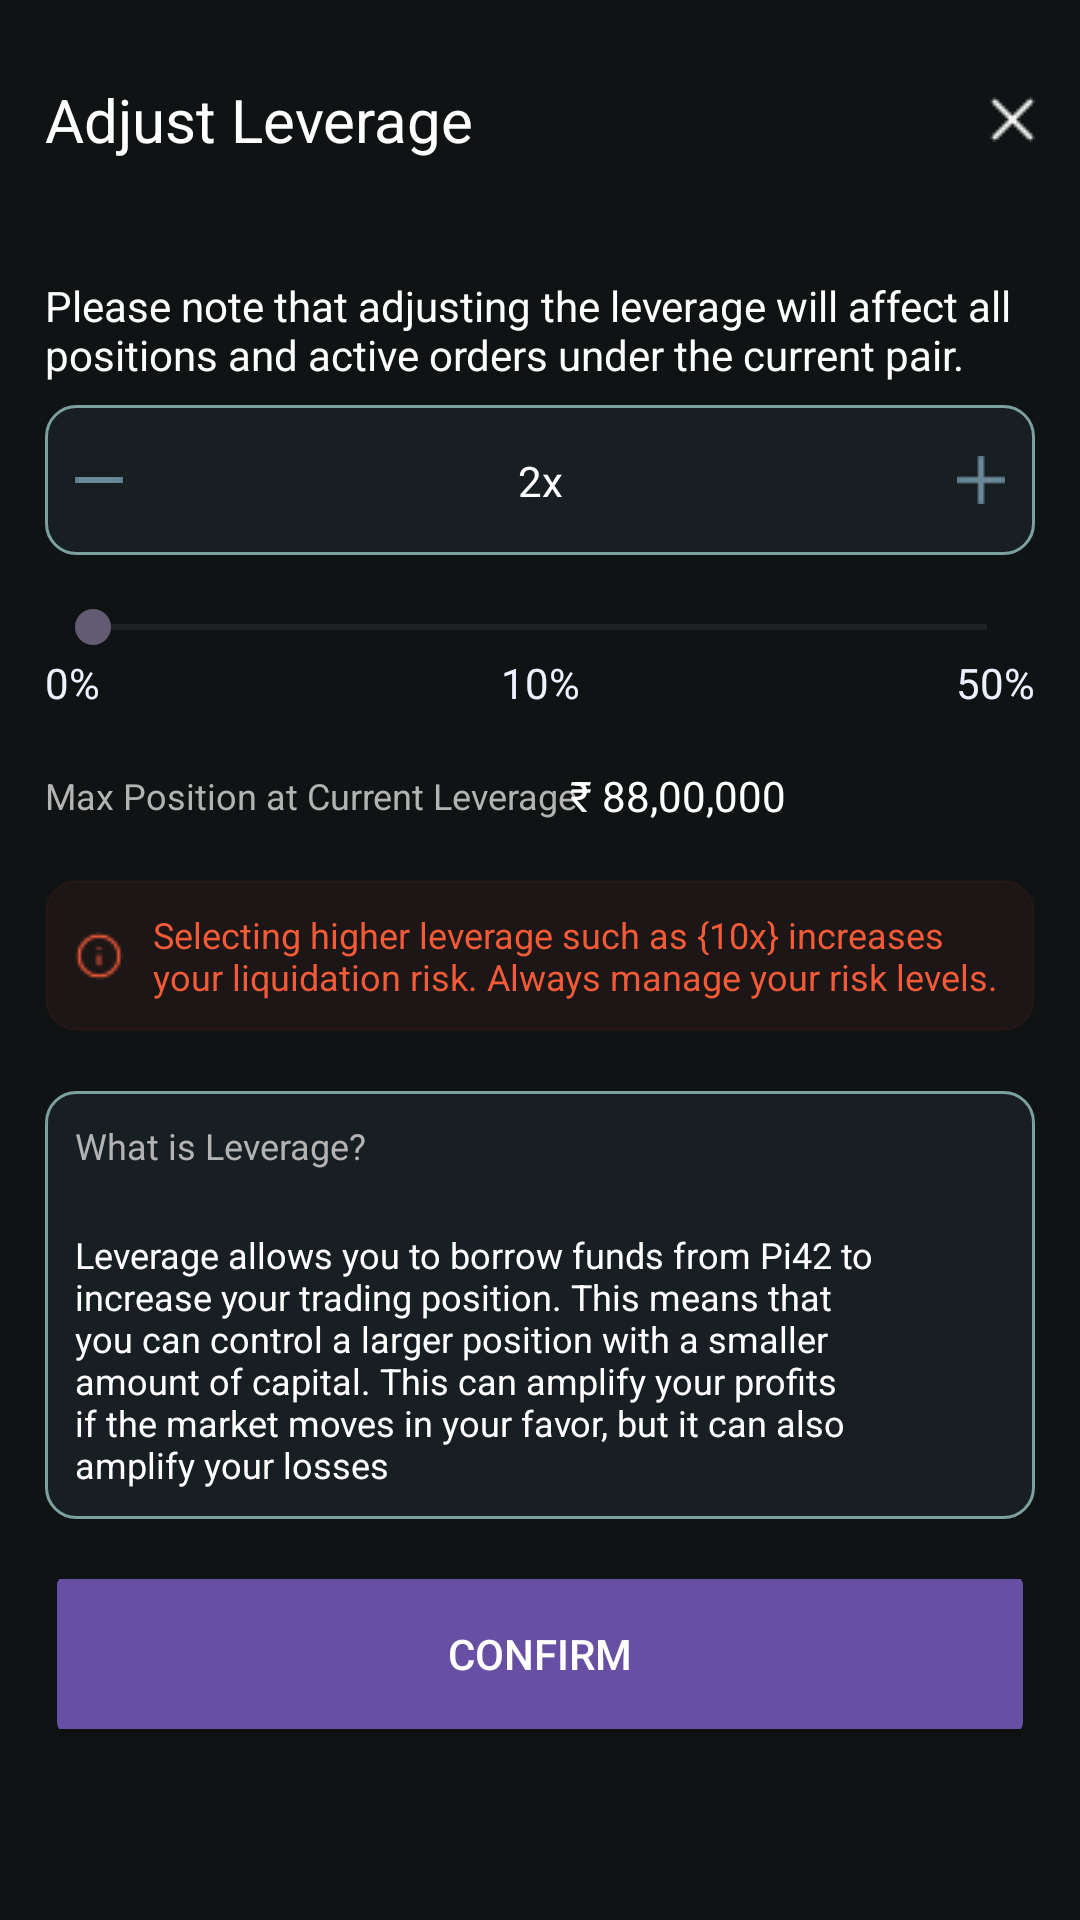

Screen size 1080 × 1920. Icon name, then its center in pixels as (x,y):
Plus to adjust leverage: (981,480)
